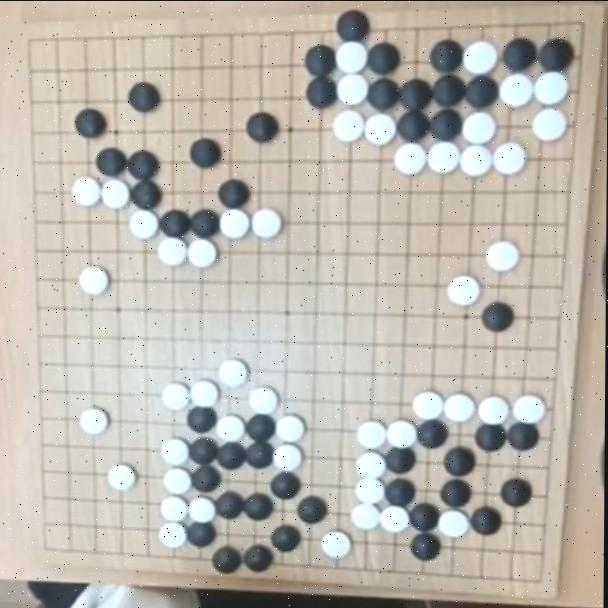corners: (549, 6, 601, 48), (11, 20, 57, 66), (510, 560, 560, 596), (31, 526, 71, 562)
